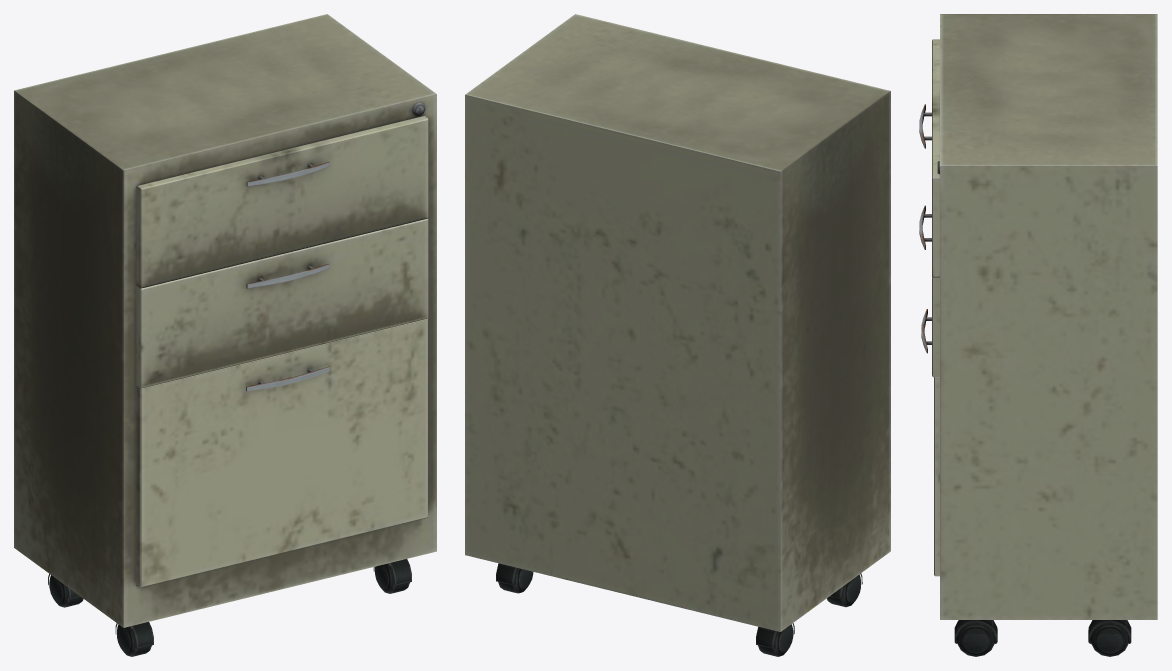
The model's file is smallShelf.glb.
3 views of the same model, side by side, from view 1: azimuth 30°, elevation 25°; view 2: azimuth 150°, elevation 25°; view 3: azimuth 270°, elevation 25° (orthographic).
Parts seen in each view (by area): view 1: Office_Drawer_Bottom_Tray_OfficeDrawer_0.001; view 2: Office_Drawer_Bottom_Tray_OfficeDrawer_0.001; view 3: Office_Drawer_Bottom_Tray_OfficeDrawer_0.001.
Part boxes in pixels (left/top/right/bottom): Office_Drawer_Bottom_Tray_OfficeDrawer_0.001: left=14, top=14, right=436, bottom=656; Office_Drawer_Bottom_Tray_OfficeDrawer_0.001: left=465, top=14, right=890, bottom=656; Office_Drawer_Bottom_Tray_OfficeDrawer_0.001: left=919, top=14, right=1157, bottom=656.
Bounding box in the file's own units: 0.9688 × 1.49 × 0.642.
1 material, 1 textured.
